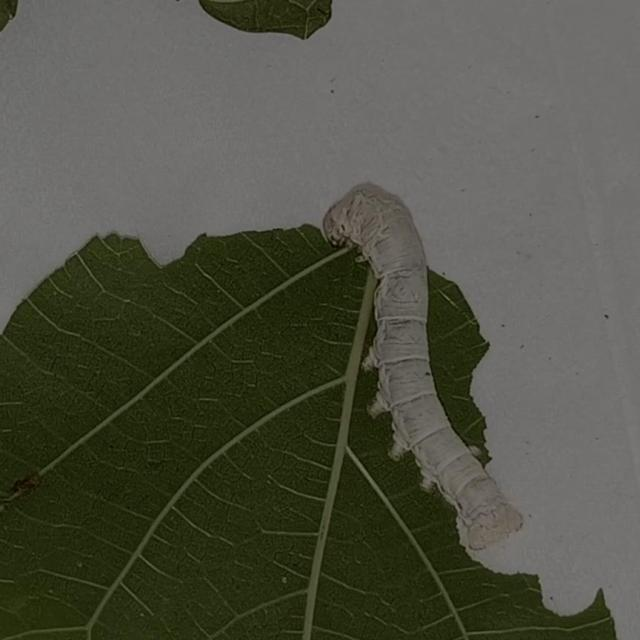Healthy: (312, 172, 537, 550)
